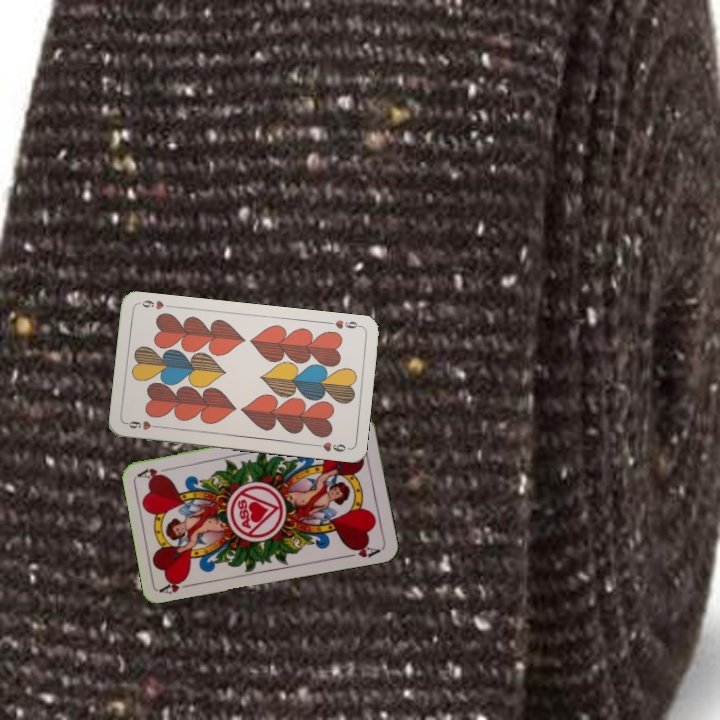H9: (323, 315, 364, 331), (123, 417, 163, 432)
HA: (157, 574, 197, 597)
